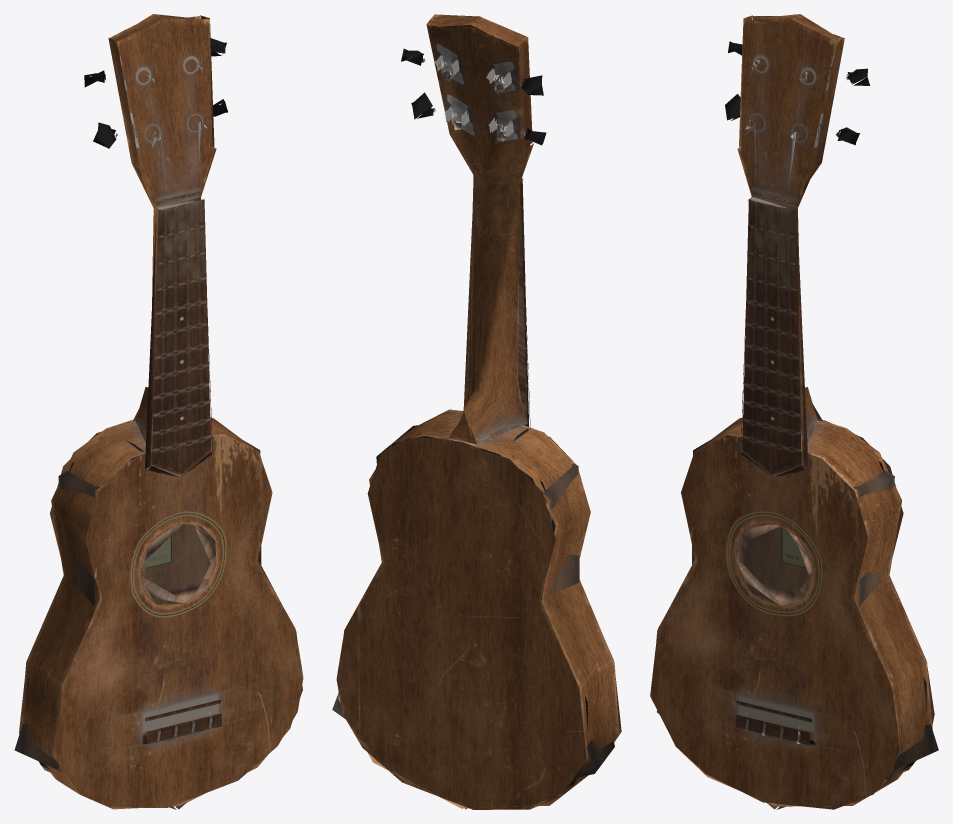
The model's file is ukulele.glb.
3 renders of one model, left to right at view 1: azimuth 30°, elevation 25°; view 2: azimuth 150°, elevation 25°; view 3: azimuth 330°, elevation 25°, orthographic.
Visible parts, largest first — view 1: Ukulele_01; view 2: Ukulele_01; view 3: Ukulele_01.
Part boxes in pixels (x1=…): Ukulele_01: x1=14, y1=14, x2=303, y2=809; Ukulele_01: x1=332, y1=14, x2=621, y2=809; Ukulele_01: x1=650, y1=14, x2=938, y2=809.
Bounding box in the file's own units: 0.3713 × 1.06 × 0.0995.
1 material, 1 textured.
